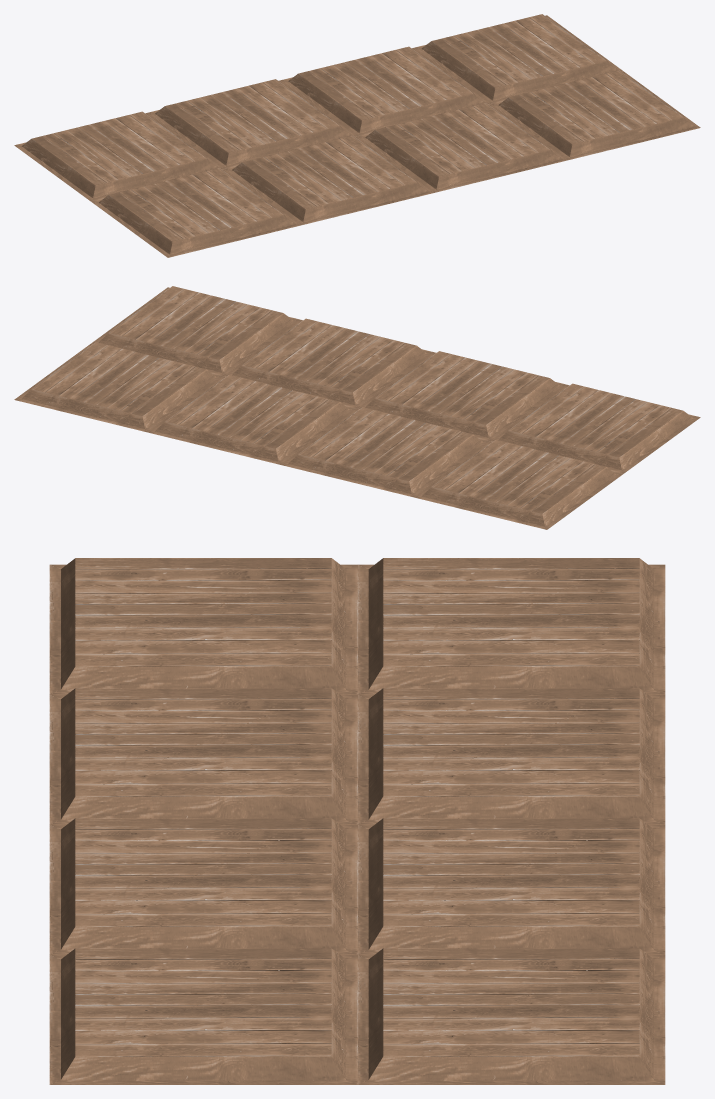
File: Ceiling32B.fbx
3 views of the same model, one above another, from view 1: azimuth 30°, elevation 25°; view 2: azimuth 150°, elevation 25°; view 3: azimuth 270°, elevation 25° (orthographic). The views are drawn at different scales.
Parts seen in each view (by area): view 1: Ceiling32B; view 2: Ceiling32B; view 3: Ceiling32B.
Boxes of the visible parts, x1,y1,x2,y2 form: Ceiling32B: (14, 14, 700, 257); Ceiling32B: (14, 286, 700, 529); Ceiling32B: (49, 558, 665, 1084).
Bounding box in the file's own units: 800 × 12.44 × 400.
